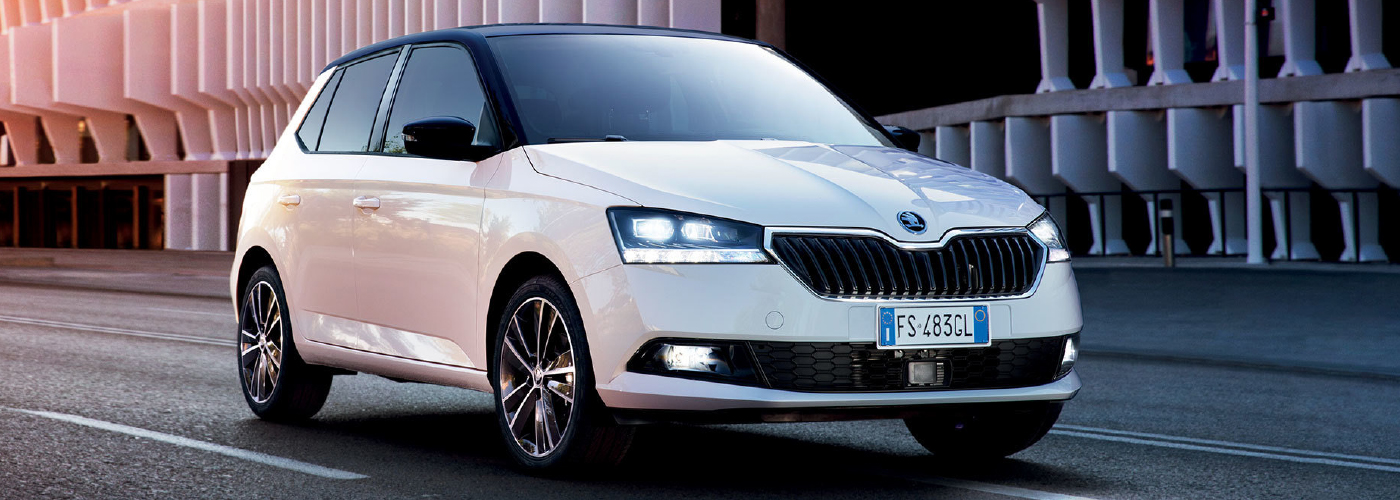license_plate: (878, 306, 990, 345)
